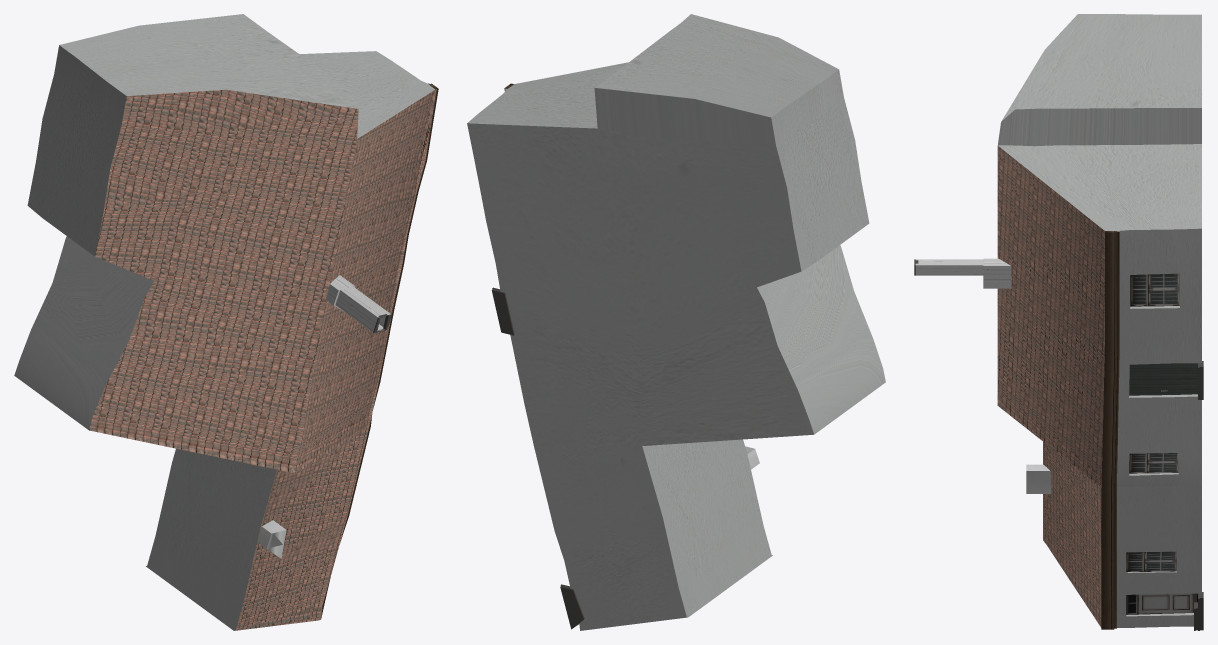
The model's file is Uus_27-origo.obj.
3 views of the same model, side by side, from view 1: azimuth 30°, elevation 25°; view 2: azimuth 150°, elevation 25°; view 3: azimuth 270°, elevation 25° (orthographic). The views are drawn at different scales.
Visible parts, largest first — view 1: polySurface10; view 2: polySurface10; view 3: polySurface10.
Part boxes in pixels (x1=…): polySurface10: x1=14, y1=14, x2=438, y2=630; polySurface10: x1=467, y1=14, x2=885, y2=630; polySurface10: x1=914, y1=14, x2=1203, y2=630.
Size of the model in its own units: 13.94 by 21 by 10.5.
